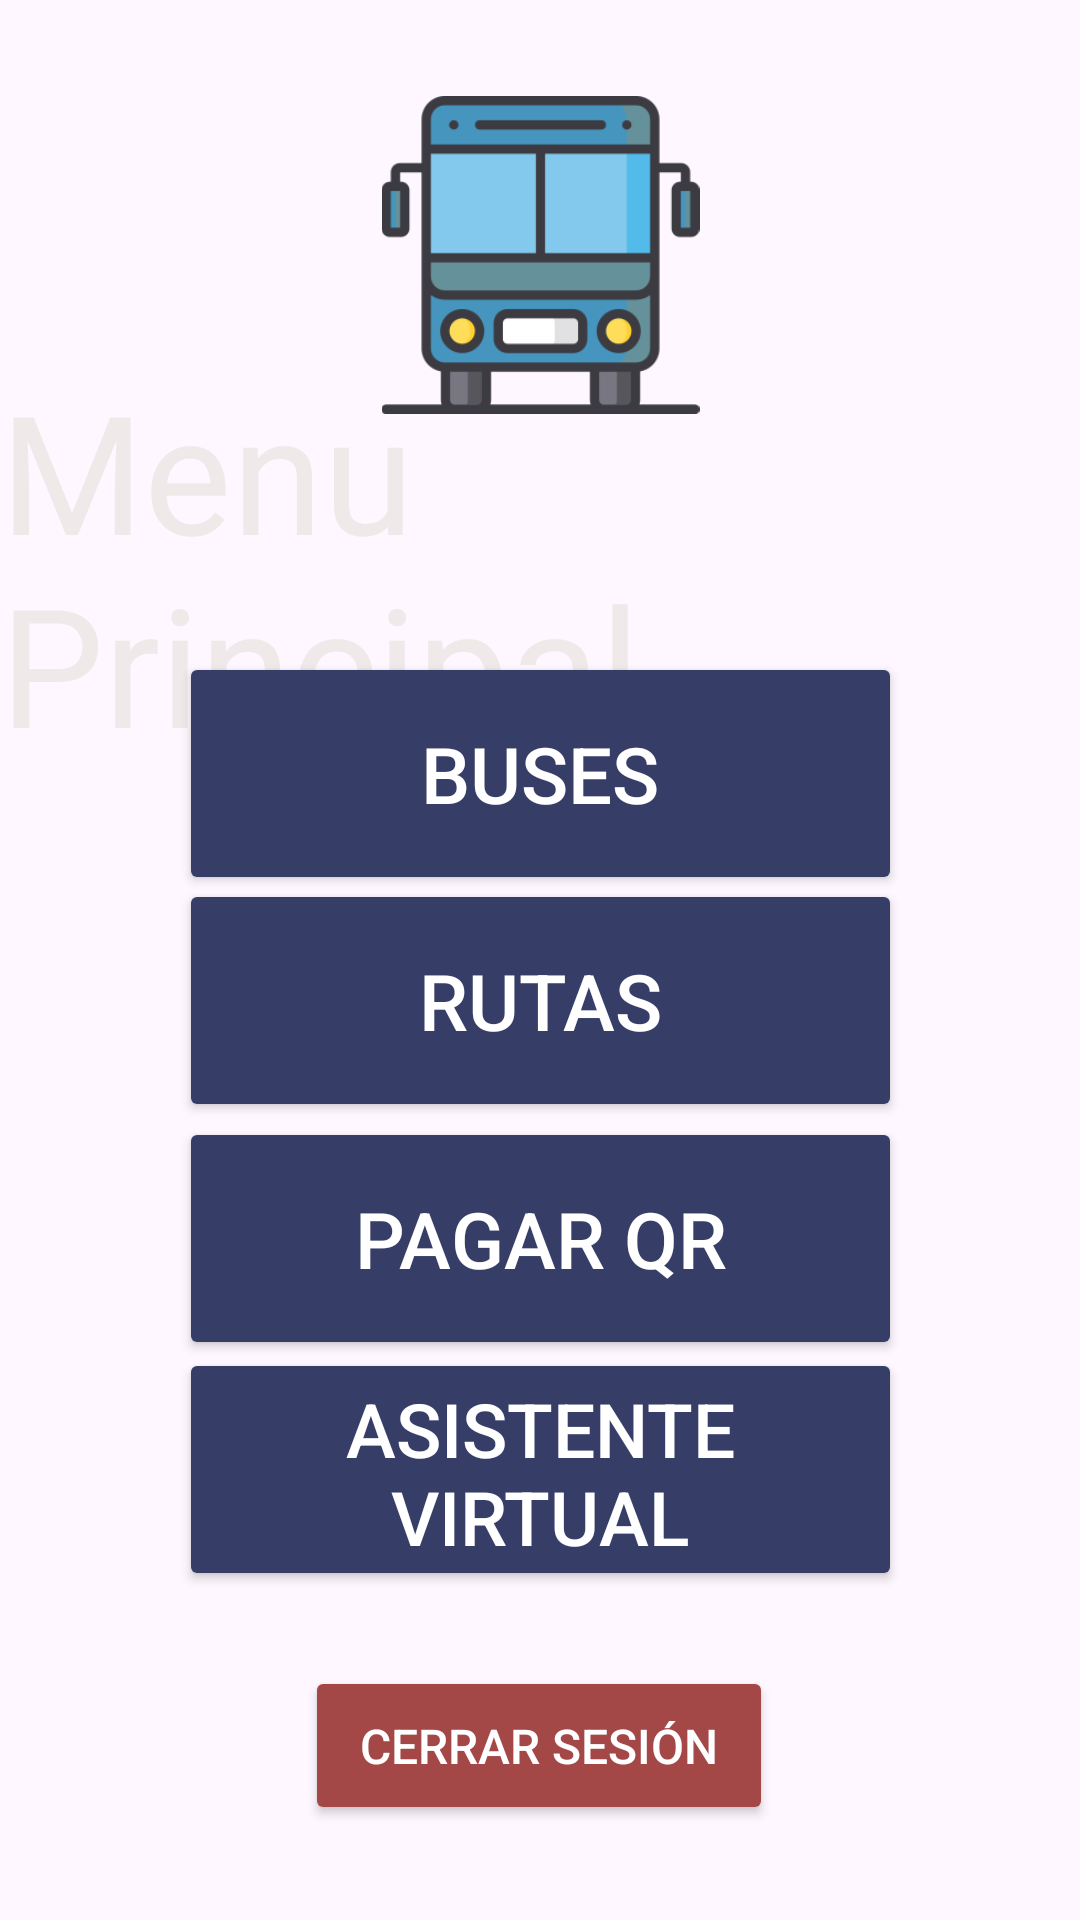

Icon bounding boxes for this 1080w x 1920h phone screenshot, format (x1, y1, x2, y2):
transporte publico: (382, 96, 700, 414)
